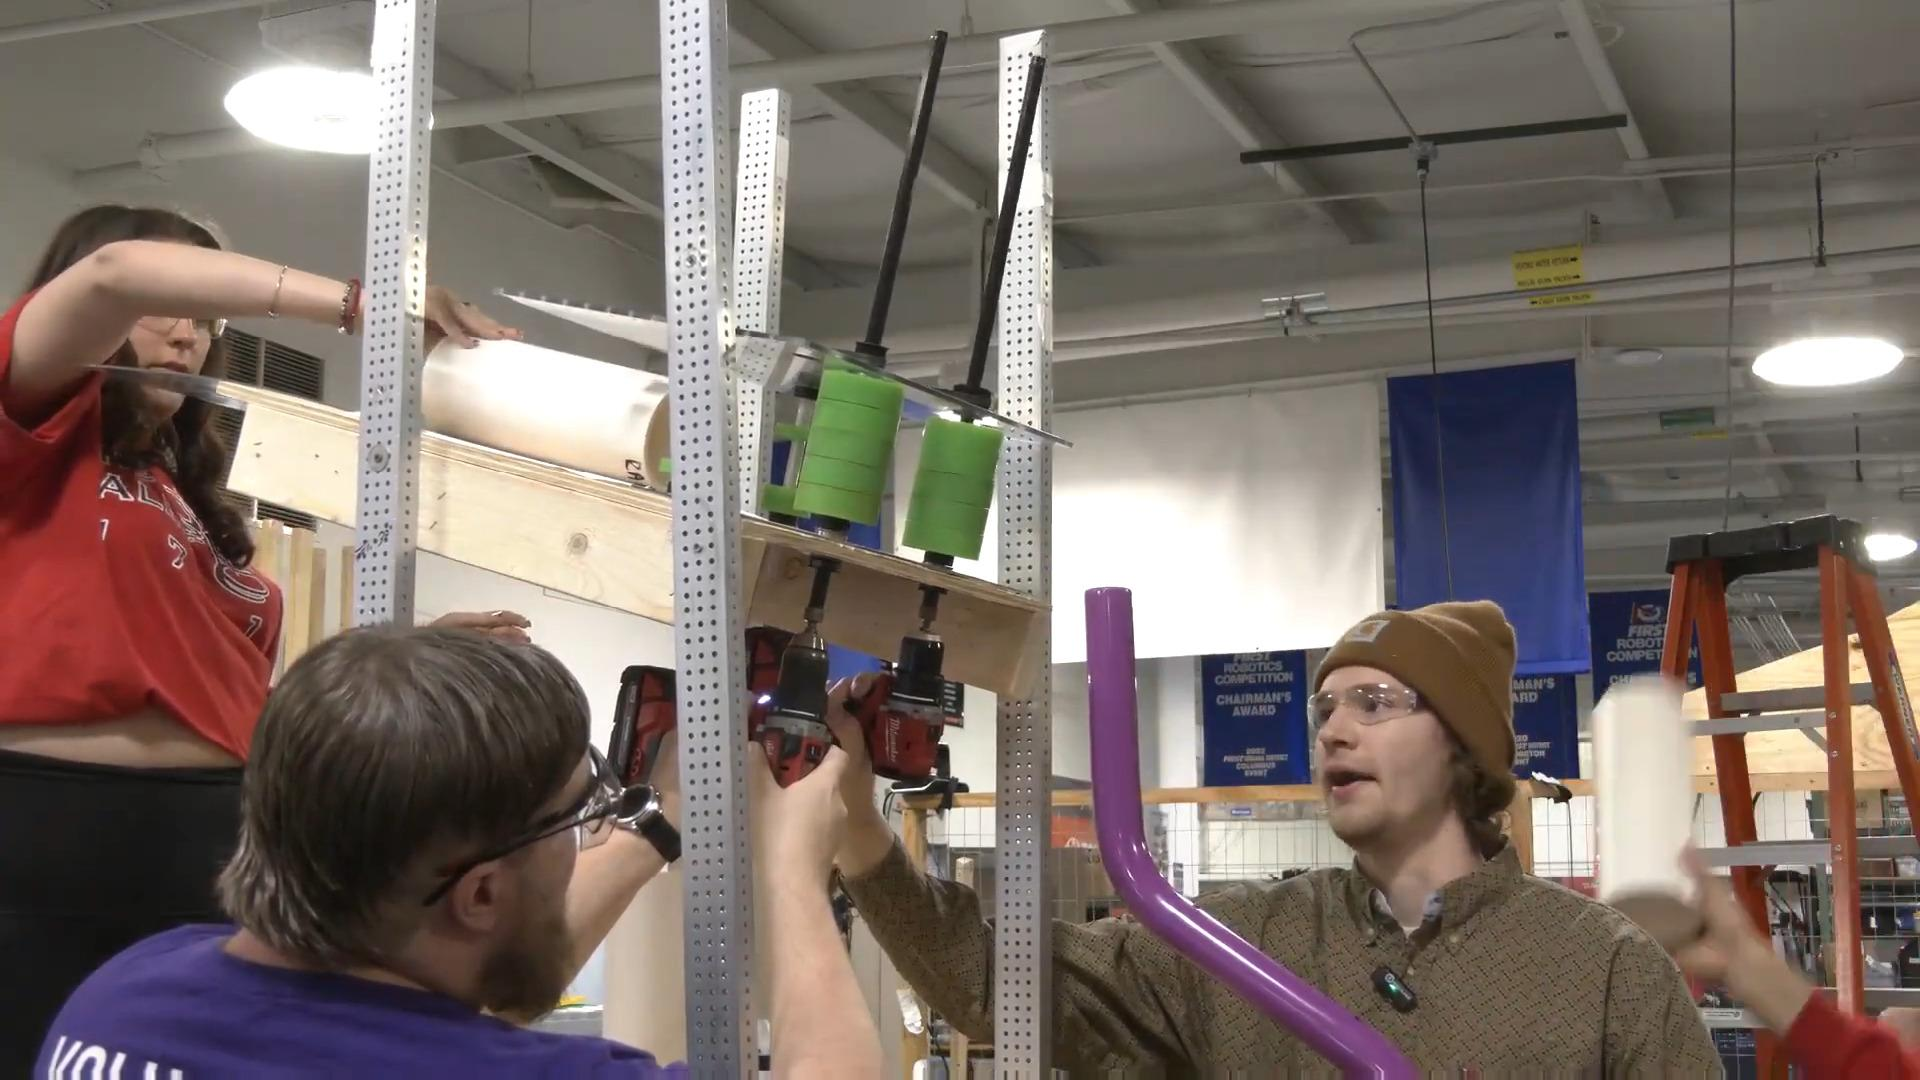coral: (419, 335, 683, 512)
